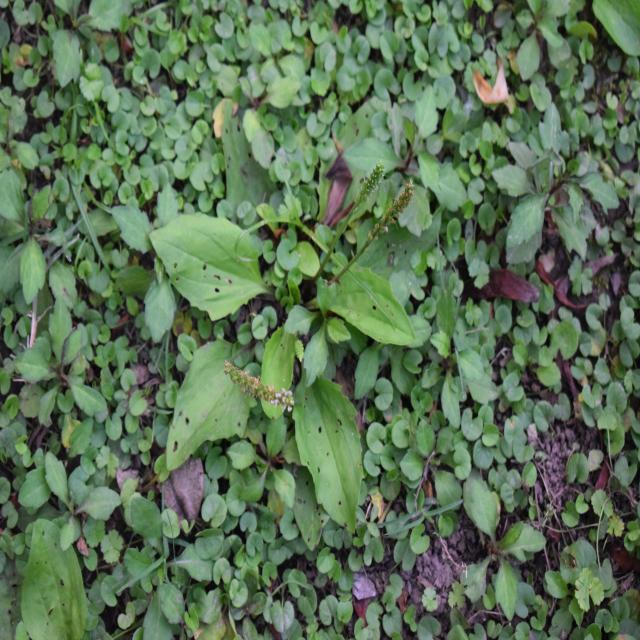plantain: (125, 172, 435, 522)
